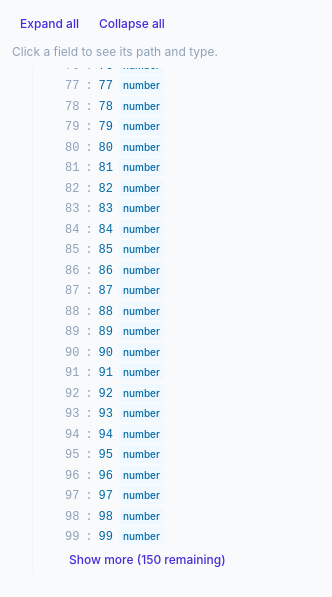
it: JsonTreeView › AN-13 / 14: renders big arrays one page at a time
(page scrolled)
Click the button "Show more (150 remaining)".
click(147, 560)  # box [61,548,234,572]
(page scrolled)
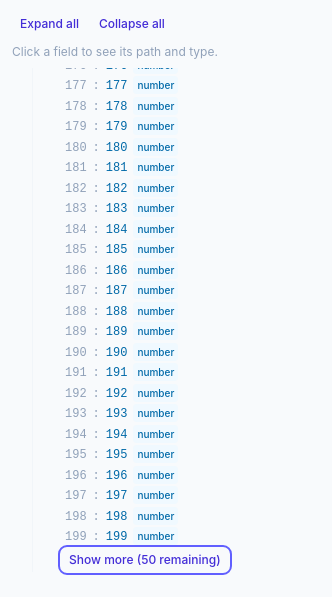
Click the button "Show more (50 remaining)".
click(145, 560)  # box [61,548,229,572]
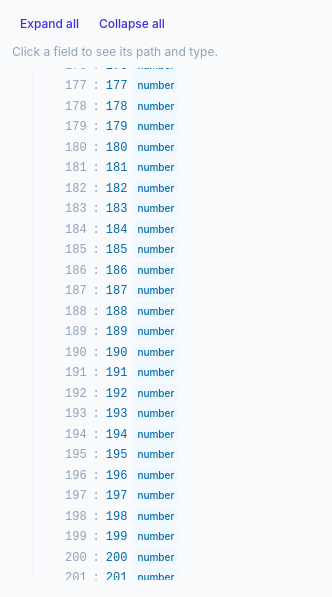
Result: the button "Show more" is gone
